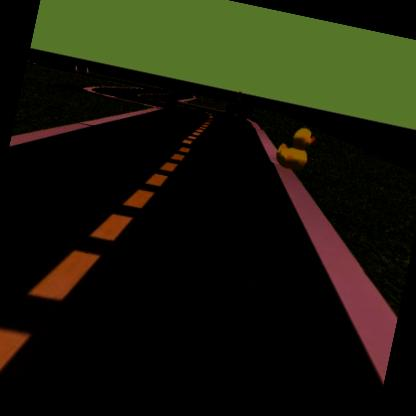Cone: (83, 60, 92, 76), (71, 61, 81, 74)
Duckie: (274, 124, 316, 174), (232, 86, 248, 104)
DuckieBot: (220, 86, 258, 122)
